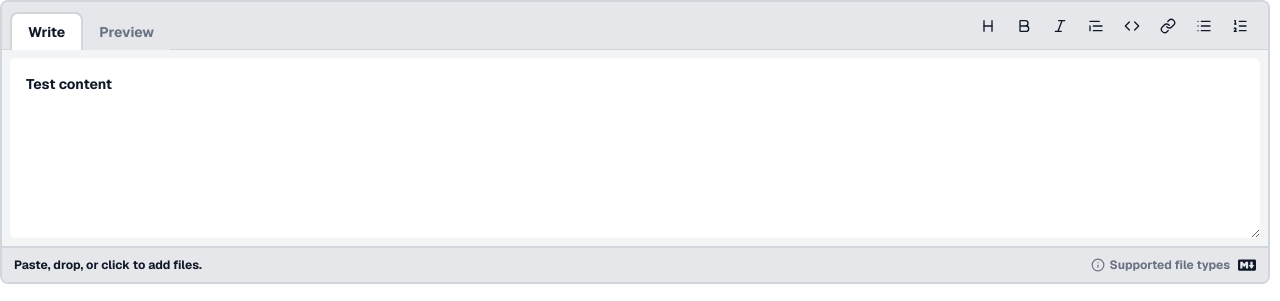
it: GitHubMessageEditor › Preview Mode › should show preview content when in Preview mode
This screenshot has width=1280, height=301.
Click the button "Preview" at (127, 32), box [83,14,170,50]
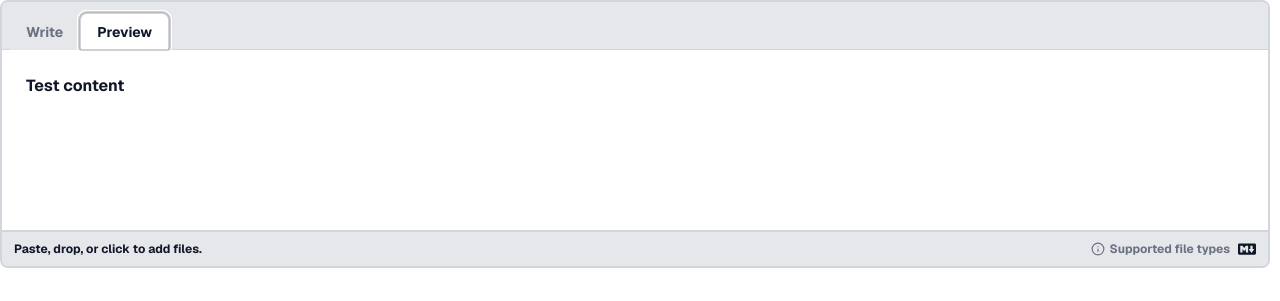
Expected: the element showing "Test content" is shown, [26,75,124,96]
